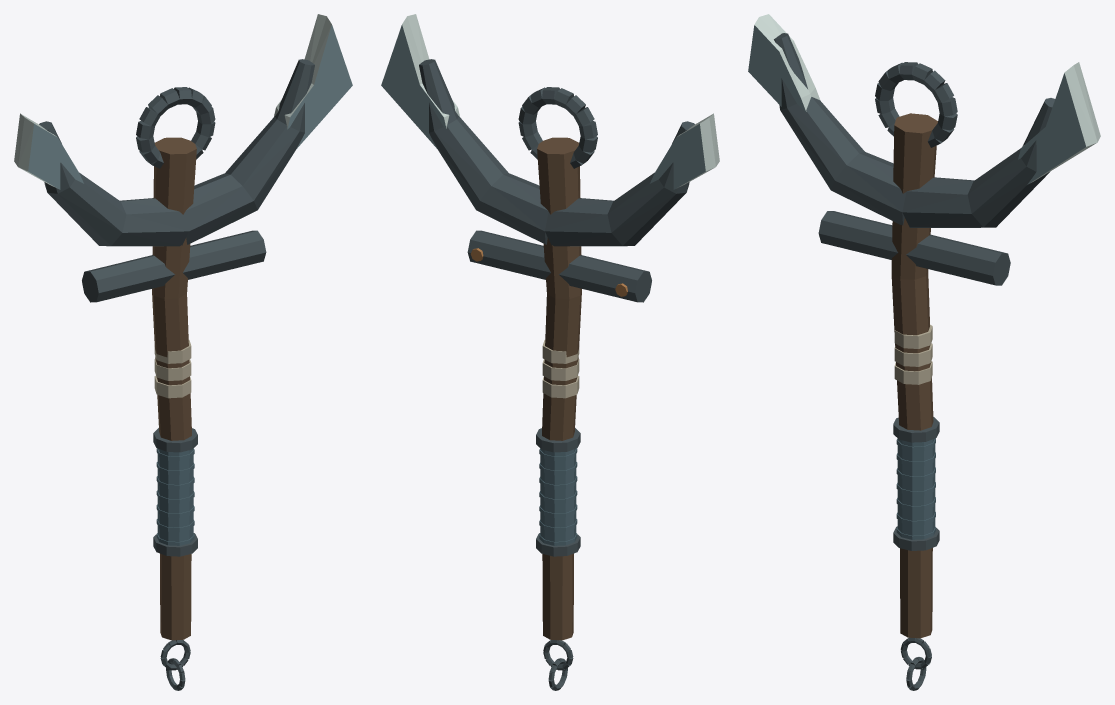
The model's file is SWW_ChainbreakAnchorAxe.fbx.
3 views of the same model, side by side, from view 1: azimuth 30°, elevation 25°; view 2: azimuth 150°, elevation 25°; view 3: azimuth 330°, elevation 25° (orthographic). The views are drawn at different scales.
Parts seen in each view (by area): view 1: SWW_ChainbreakAnchorAxe; view 2: SWW_ChainbreakAnchorAxe; view 3: SWW_ChainbreakAnchorAxe.
Boxes of the visible parts, x1,y1,x2,y2 form: SWW_ChainbreakAnchorAxe: (14, 14, 352, 690); SWW_ChainbreakAnchorAxe: (381, 14, 719, 690); SWW_ChainbreakAnchorAxe: (748, 14, 1100, 690).
Bounding box in the file's own units: 1.01 × 1.85 × 0.142.
